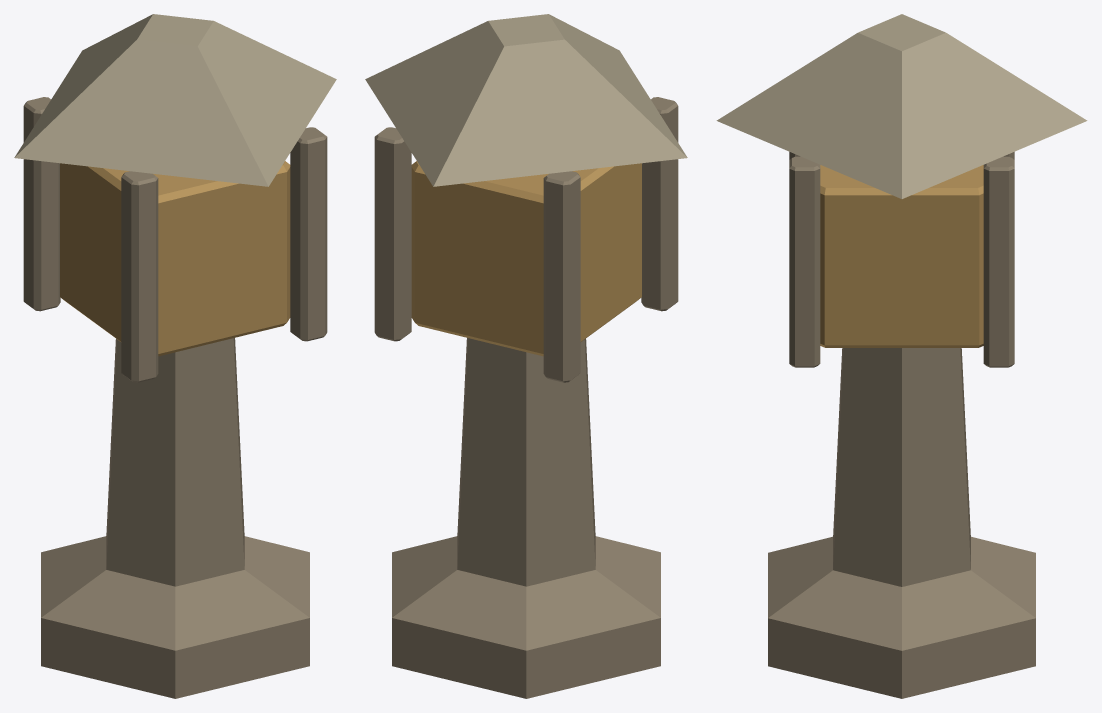
The model's file is lantern-stone.glb.
3 views of the same model, side by side, from view 1: azimuth 30°, elevation 25°; view 2: azimuth 150°, elevation 25°; view 3: azimuth 270°, elevation 25° (orthographic).
Visible parts, largest first — view 1: lantern-stone__body; view 2: lantern-stone__body; view 3: lantern-stone__body.
Part boxes in pixels (x1=…): lantern-stone__body: x1=14, y1=14, x2=336, y2=698; lantern-stone__body: x1=365, y1=14, x2=687, y2=698; lantern-stone__body: x1=716, y1=14, x2=1087, y2=698.
Size of the model in its own units: 0.84 by 1.5 by 0.84.
